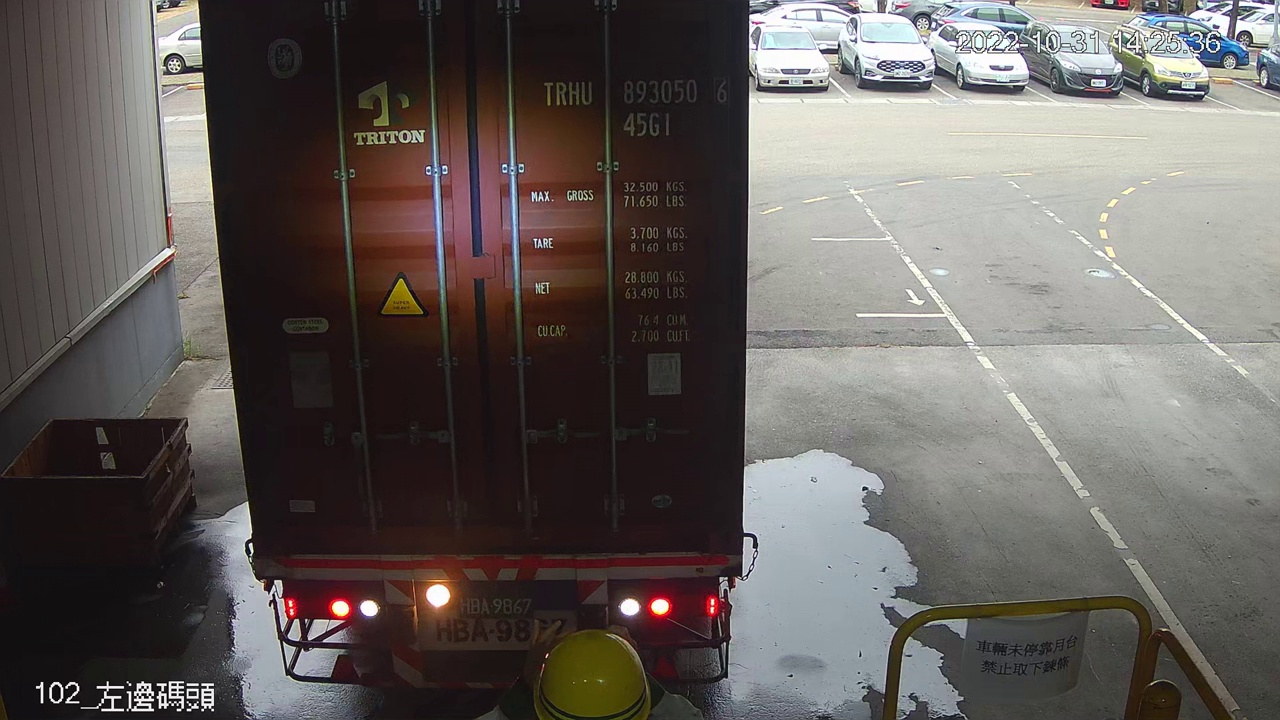container: (535, 67, 736, 145)
